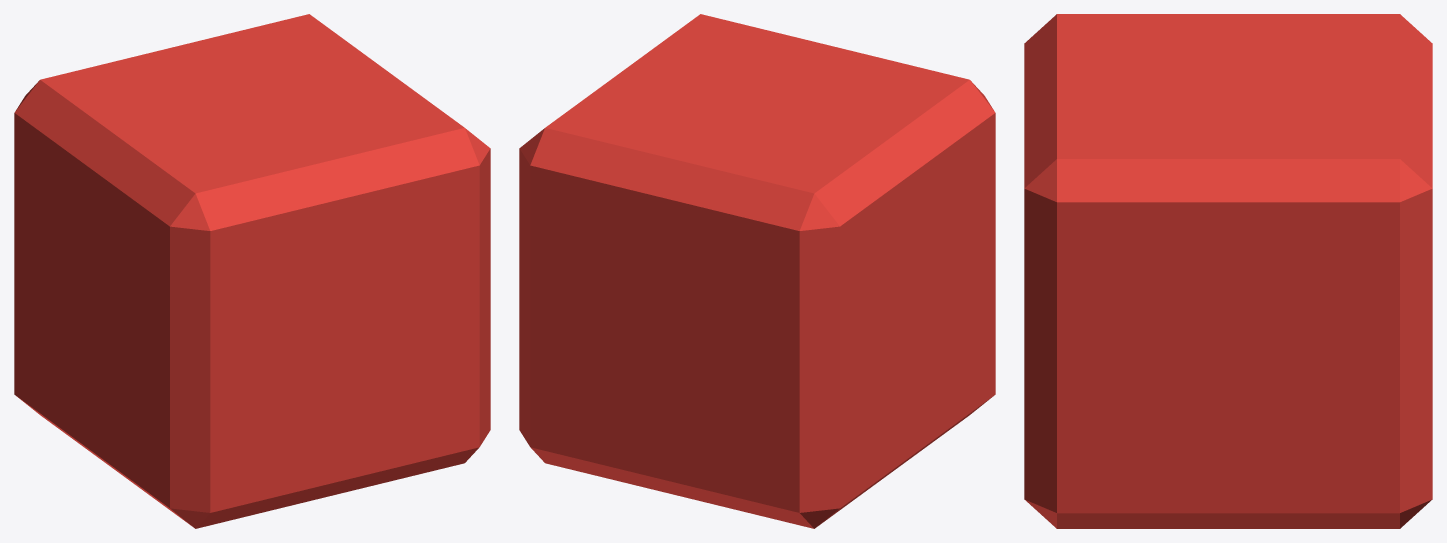
File: debris_block.glb
3 renders of one model, left to right at view 1: azimuth 30°, elevation 25°; view 2: azimuth 150°, elevation 25°; view 3: azimuth 270°, elevation 25°, orthographic. The views are drawn at different scales.
Parts seen in each view (by area): view 1: debris_block; view 2: debris_block; view 3: debris_block.
Boxes of the visible parts, x1,y1,x2,y2 form: debris_block: (14, 14, 490, 528); debris_block: (519, 14, 995, 528); debris_block: (1024, 14, 1432, 528).
Bounding box in the file's own units: 0.075 × 0.075 × 0.075.
